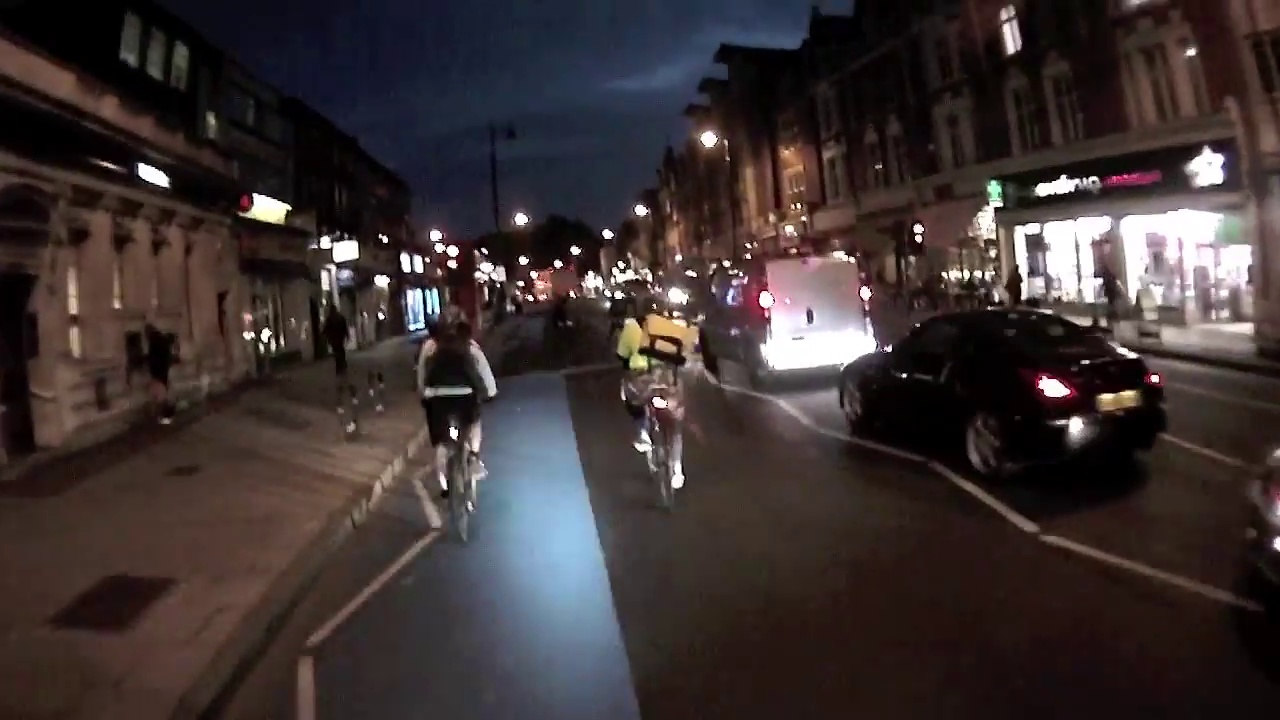cyclist_back: (415, 306, 502, 552), (622, 293, 703, 514)
